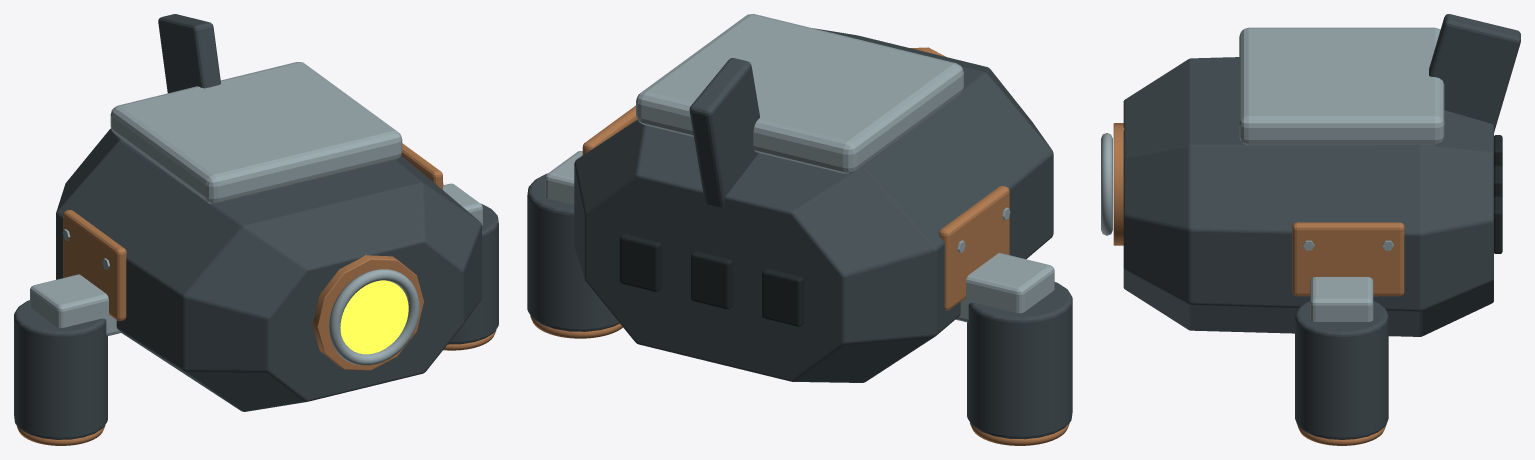
The model's file is EmberWarden.fbx.
The picture shows the model from 3 angles, left to right: view 1: azimuth 30°, elevation 25°; view 2: azimuth 150°, elevation 25°; view 3: azimuth 270°, elevation 25°; orthographic projection. The views are drawn at different scales.
Parts seen in each view (by area): view 1: FrameMesh; view 2: FrameMesh; view 3: FrameMesh.
Part boxes in pixels (x1,y1,x2,y2): FrameMesh: [14, 14, 498, 445]; FrameMesh: [527, 14, 1072, 445]; FrameMesh: [1101, 14, 1520, 445].
Bounding box in the file's own units: 0.822 × 0.5285 × 0.6347.
